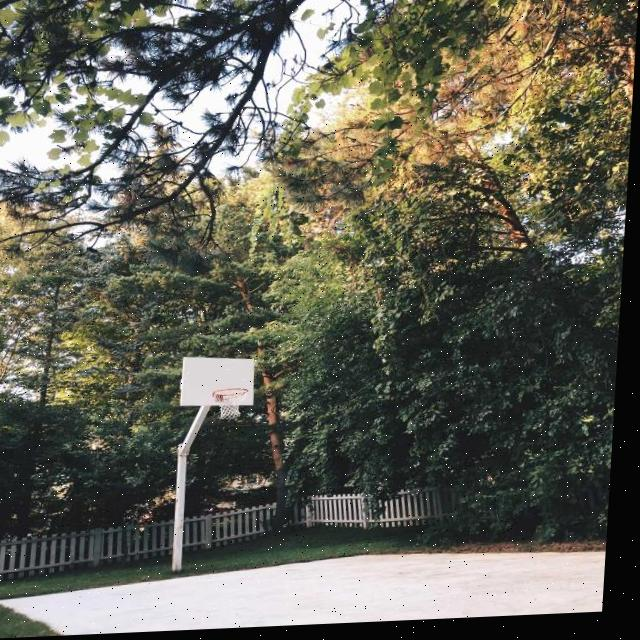hoop: (211, 387, 249, 420)
